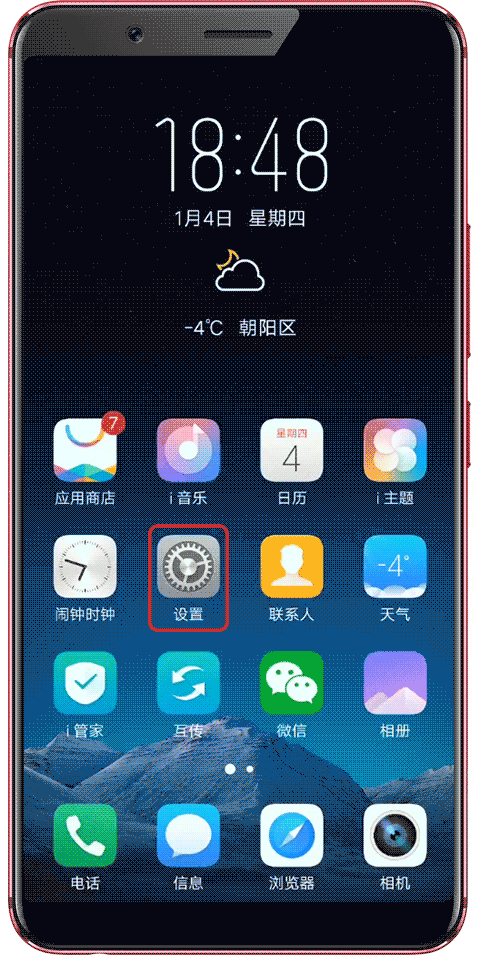phone: (2, 1, 471, 960)
